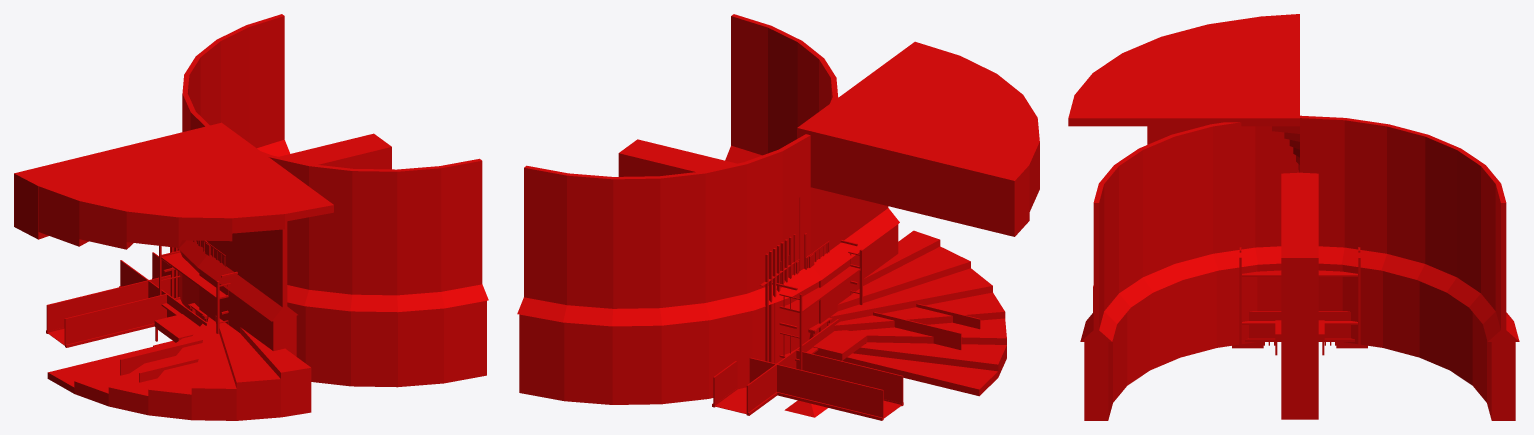
File: PrisonColliders.fbx
3 renders of one model, left to right at view 1: azimuth 30°, elevation 25°; view 2: azimuth 150°, elevation 25°; view 3: azimuth 270°, elevation 25°, orthographic. The views are drawn at different scales.
Parts seen in each view (by area): view 1: StairsCollision, CurvedWallBCollision, CurvedWallACollision, BrickWallTallCollision, CeilingGrateCornerACollision, CeilingGrateTCollision, EntranceWallCollision, CeilingGrateCornerBCollision, DoubleBedACollision, CeilingGrateStraightCollision, CellBedCollision, SingleBedACollision; view 2: CurvedWallACollision, StairsCollision, CurvedWallBCollision, BrickWallTallCollision, CeilingGrateCornerACollision, EntranceWallCollision, CeilingGrateTCollision, CeilingGrateStraightCollision, PrisonCellEntranceBarsCollision, CeilingGrateCornerBCollision, DoubleBedACollision, CellBedCollision (+1 smaller); view 3: CurvedWallACollision, CurvedWallBCollision, StairsCollision, EntranceWallCollision, DoubleBedACollision, CeilingGrateCornerBCollision, CeilingGrateStraightCollision, BrickWallTallCollision.
Boxes of the visible parts, x1,y1,x2,y2 form: StairsCollision: [14, 122, 333, 420]; CurvedWallBCollision: [261, 151, 488, 387]; CurvedWallACollision: [174, 14, 290, 316]; BrickWallTallCollision: [197, 221, 297, 356]; CeilingGrateCornerACollision: [46, 274, 195, 347]; CeilingGrateTCollision: [46, 255, 166, 347]; EntranceWallCollision: [201, 133, 391, 246]; CeilingGrateCornerBCollision: [120, 314, 206, 382]; DoubleBedACollision: [159, 246, 237, 332]; CeilingGrateStraightCollision: [119, 252, 192, 319]; CellBedCollision: [154, 314, 199, 342]; SingleBedACollision: [159, 267, 228, 333]; CurvedWallACollision: [517, 134, 821, 404]; StairsCollision: [797, 41, 1039, 396]; CurvedWallBCollision: [725, 14, 838, 163]; BrickWallTallCollision: [810, 187, 899, 332]; CeilingGrateCornerACollision: [749, 329, 903, 420]; EntranceWallCollision: [618, 139, 800, 271]; CeilingGrateTCollision: [713, 348, 902, 417]; CeilingGrateStraightCollision: [712, 331, 825, 415]; PrisonCellEntranceBarsCollision: [760, 232, 806, 363]; CeilingGrateCornerBCollision: [825, 303, 980, 349]; DoubleBedACollision: [772, 240, 862, 369]; CellBedCollision: [813, 330, 867, 360]; CurvedWallACollision: [1300, 115, 1519, 420]; CurvedWallBCollision: [1080, 122, 1299, 420]; StairsCollision: [1068, 14, 1299, 312]; EntranceWallCollision: [1281, 172, 1318, 419]; DoubleBedACollision: [1239, 247, 1360, 343]; CeilingGrateCornerBCollision: [1245, 311, 1281, 341]; CeilingGrateStraightCollision: [1318, 312, 1354, 341]; BrickWallTallCollision: [1147, 126, 1202, 144].
Bounding box in the file's own units: 862 × 590 × 886.
